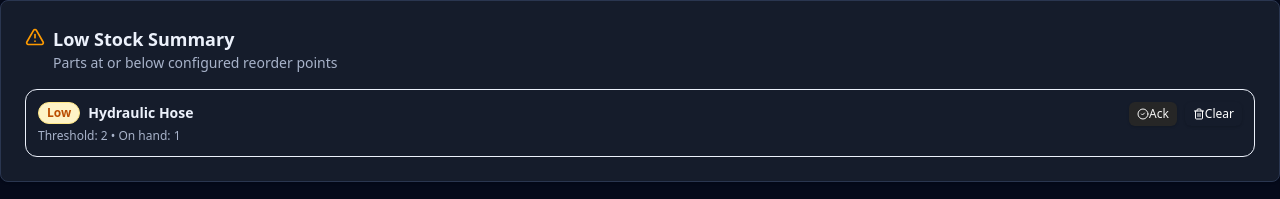
LowStockSummaryWidget › surfaces errors and restores alert when clear fails
Step 1. Click the button "Clear" → (1213, 114), box [1185,102,1242,126]
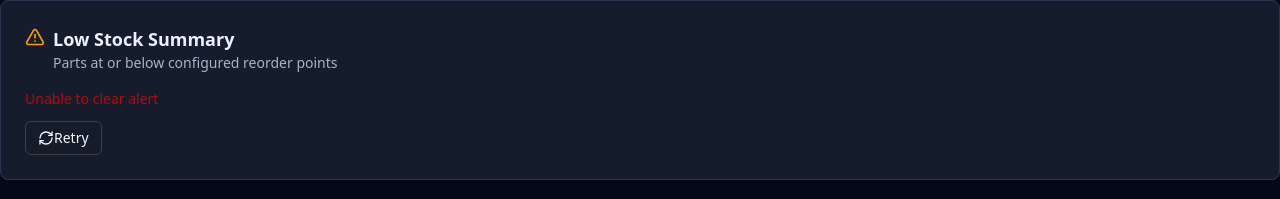
Expected: the text "Unable to clear alert" is shown, [25,89,158,108]
